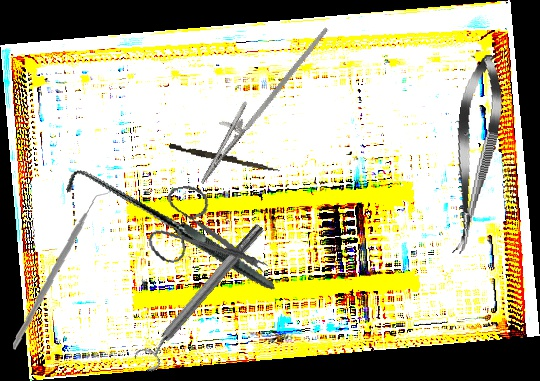Chopper: (5, 190, 119, 350)
Fixation Ring: (130, 217, 273, 376)
Hook Surgical: (61, 121, 276, 344)
Iris Scissors: (139, 172, 272, 294)
Micro Scissor: (440, 52, 509, 257)
Needle Holder: (186, 6, 330, 198)
Pusher: (168, 143, 281, 173)
